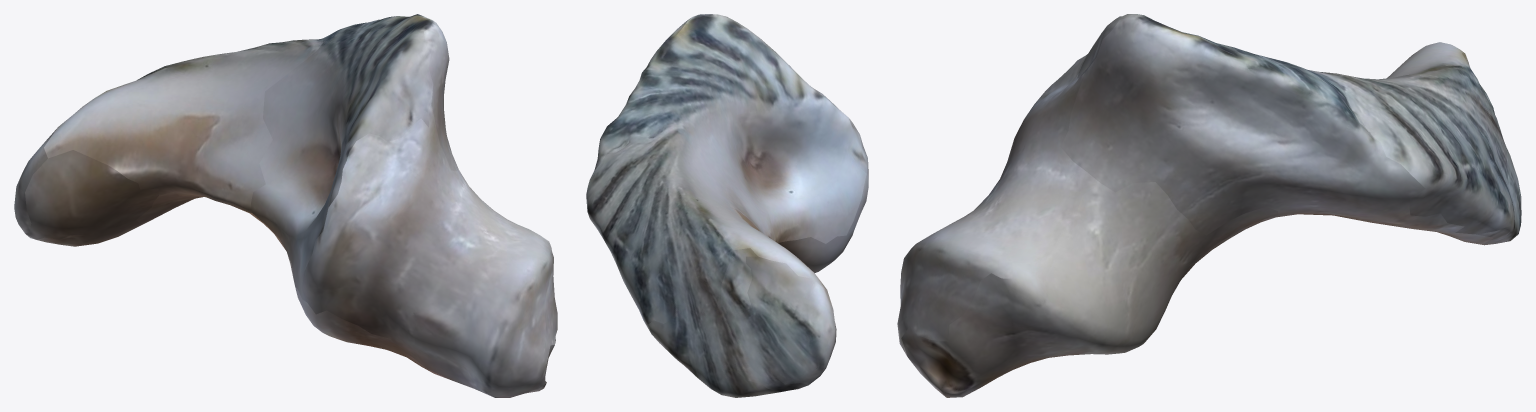
The model's file is Coquillage Jan Juc.obj.
The picture shows the model from 3 angles, left to right: view 1: azimuth 30°, elevation 25°; view 2: azimuth 150°, elevation 25°; view 3: azimuth 270°, elevation 25°; orthographic projection. The views are drawn at different scales.
Parts seen in each view (by area): view 1: Object; view 2: Object; view 3: Object.
Boxes of the visible parts, x1,y1,x2,y2 form: Object: (14, 14, 557, 397); Object: (586, 14, 868, 397); Object: (897, 14, 1521, 397).
Bounding box in the file's own units: 0.1054 × 0.089 × 0.1396.
Materials: 1 (1 with a texture image).
